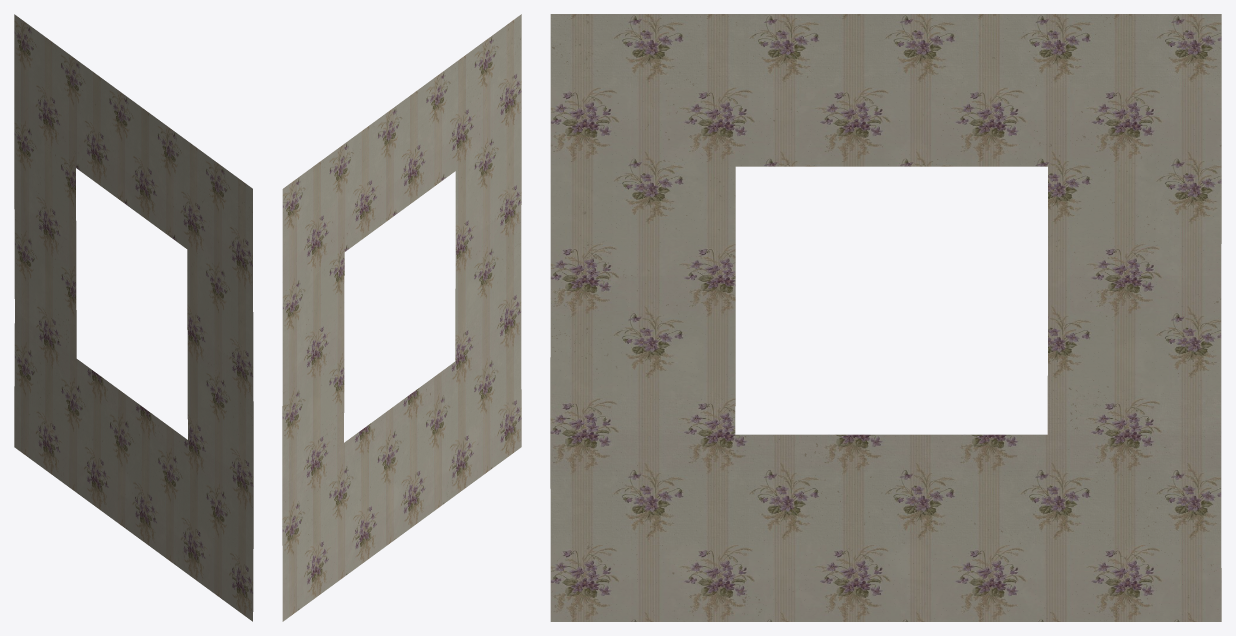
File: window_stena_room.fbx
3 renders of one model, left to right at view 1: azimuth 30°, elevation 25°; view 2: azimuth 150°, elevation 25°; view 3: azimuth 270°, elevation 25°, orthographic. The views are drawn at different scales.
Parts seen in each view (by area): view 1: Plane.001; view 2: Plane.001; view 3: Plane.001.
Boxes of the visible parts, x1,y1,x2,y2 form: Plane.001: [14, 14, 253, 621]; Plane.001: [282, 14, 521, 621]; Plane.001: [550, 14, 1221, 621].
Bounding box in the file's own units: 0.2837 × 200 × 200.
